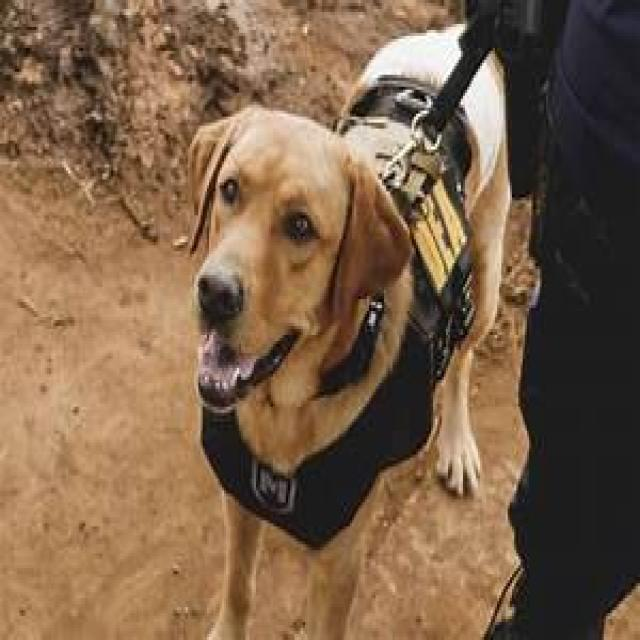FIL: (192, 21, 518, 640)
